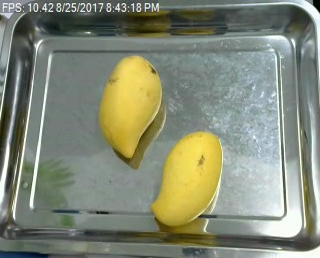Mango: (150, 130, 224, 225), (96, 54, 162, 157)
